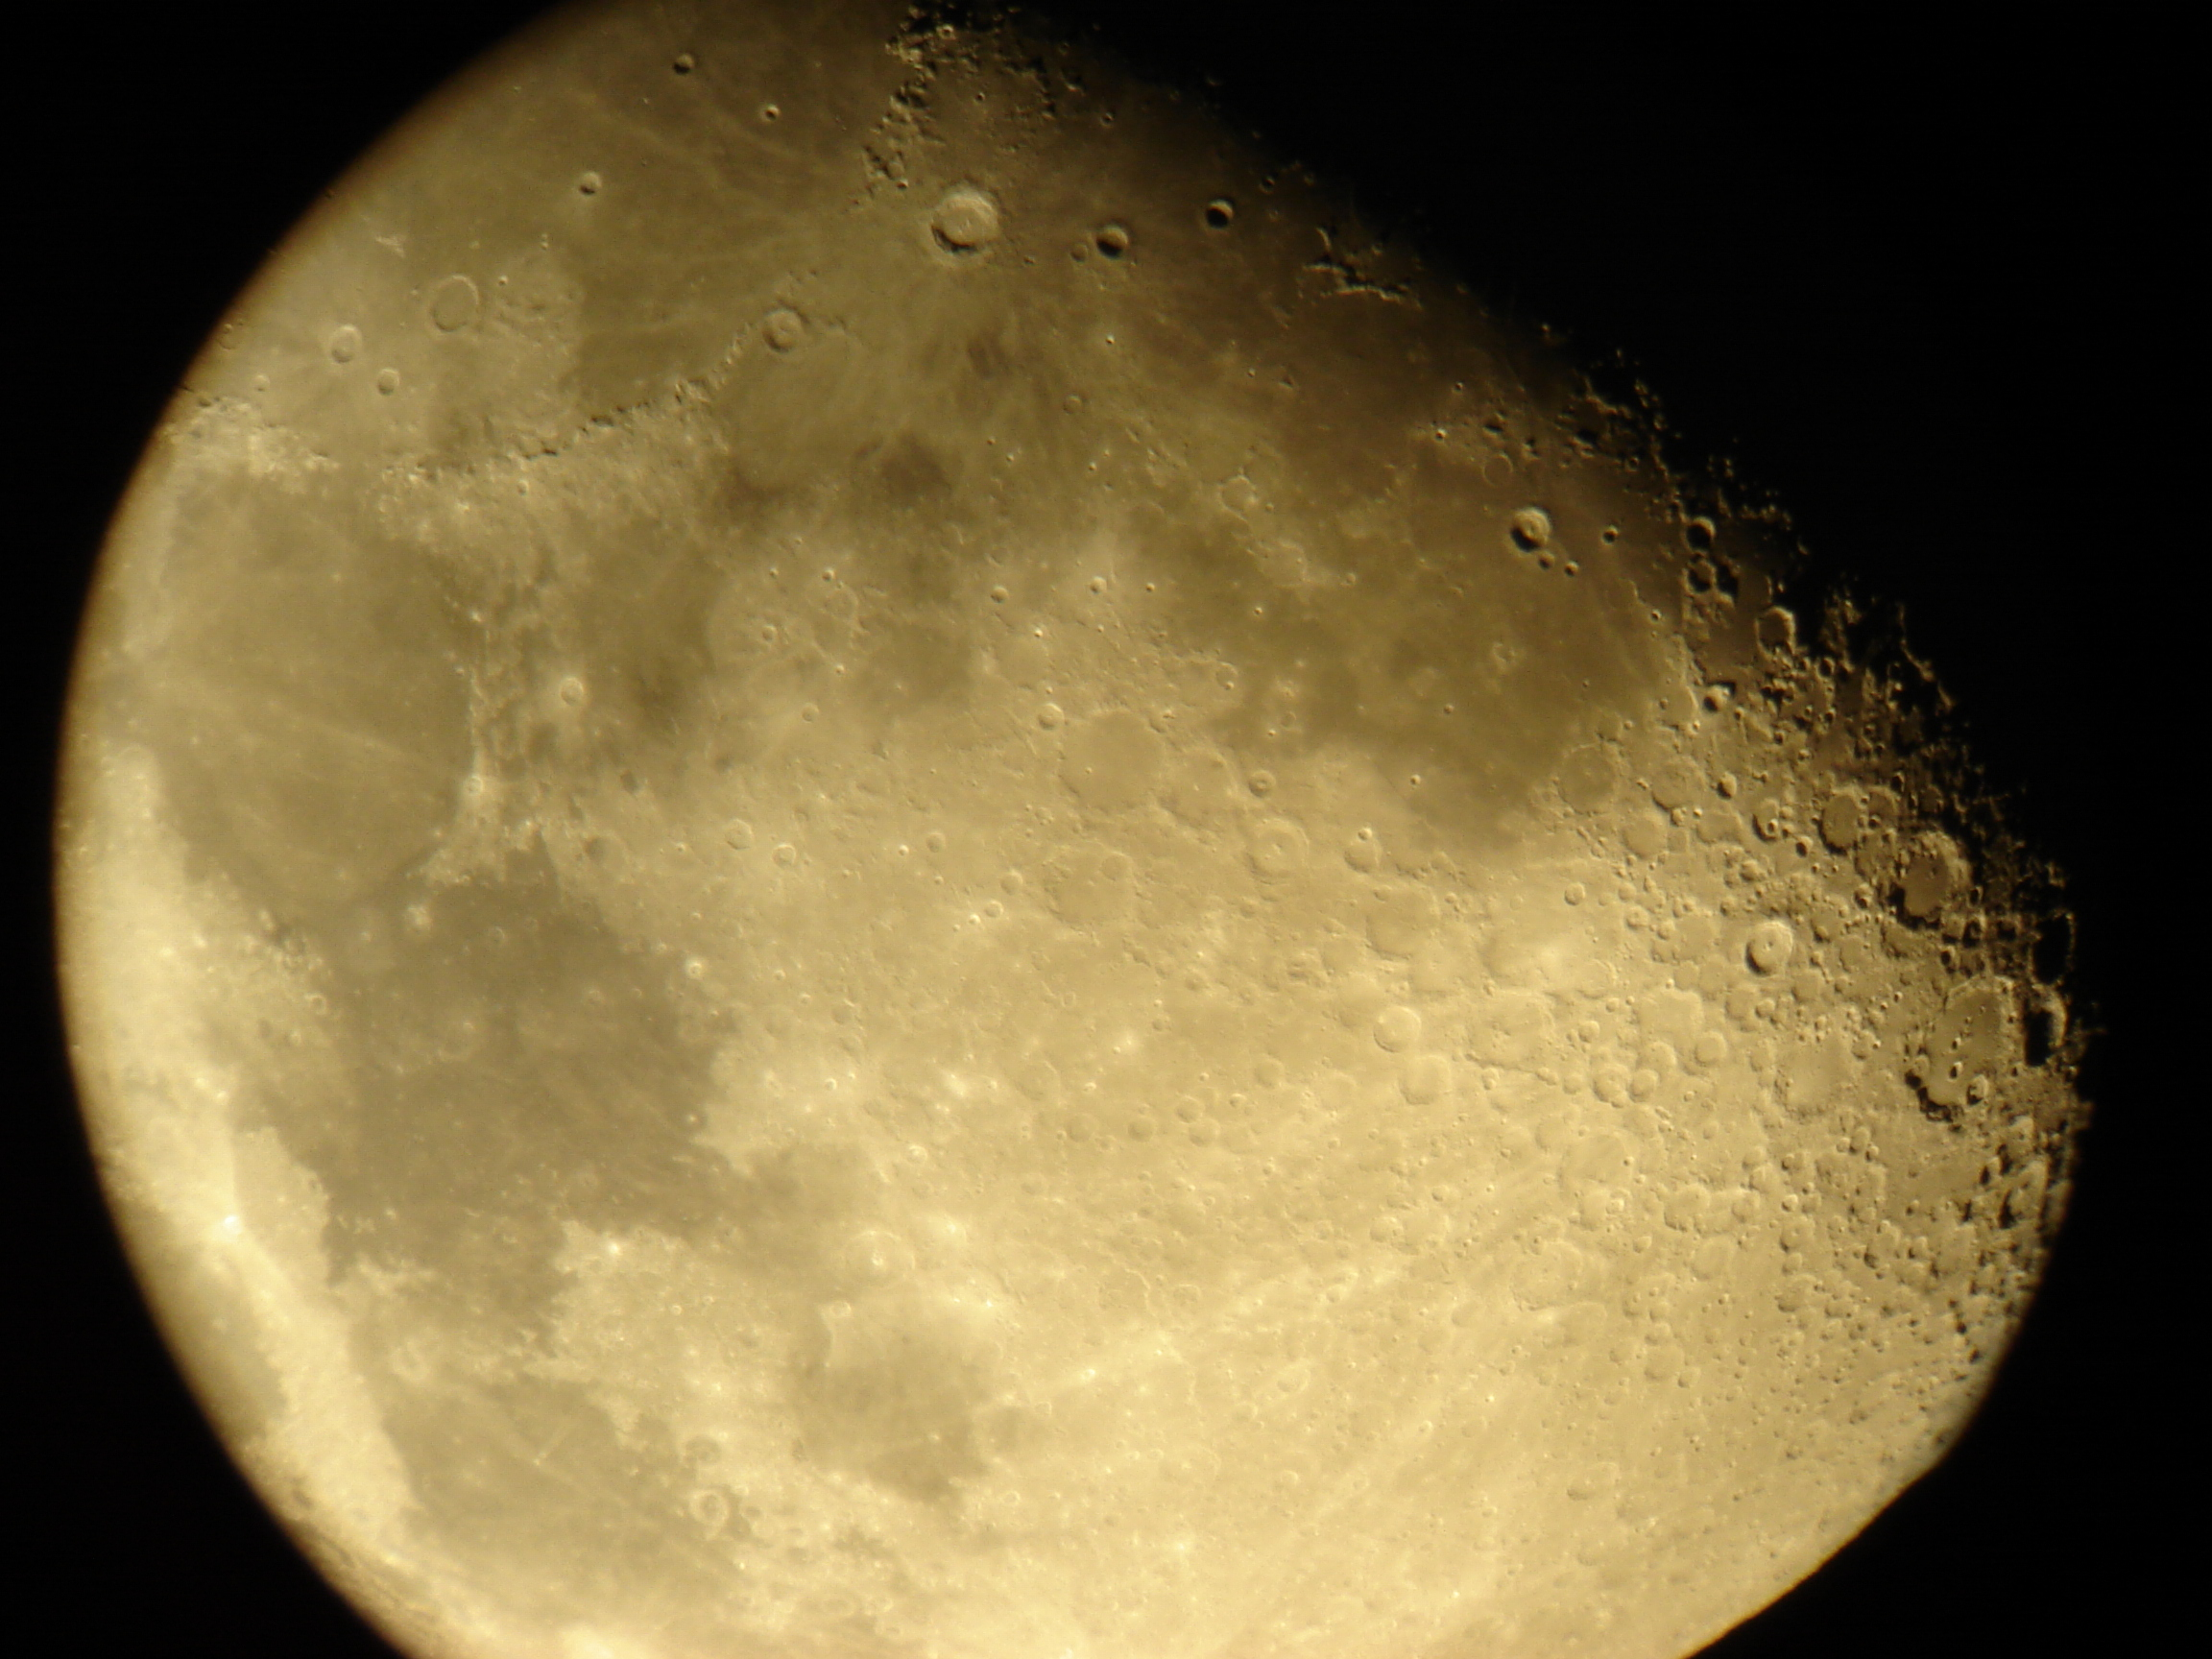crater: (1871, 945, 2020, 1145), (374, 234, 529, 355), (711, 251, 836, 401), (894, 171, 1042, 293), (533, 134, 651, 263), (1702, 896, 1815, 1019), (1059, 173, 1158, 303), (1792, 751, 1885, 878), (728, 66, 819, 173), (641, 5, 735, 105), (1235, 802, 1325, 904), (1338, 976, 1451, 1058), (528, 647, 627, 737), (1359, 1049, 1468, 1131), (1522, 845, 1604, 955), (1193, 464, 1282, 561), (1487, 493, 1580, 586), (1177, 173, 1256, 268), (1028, 362, 1136, 430), (293, 291, 371, 378), (1374, 739, 1458, 812), (808, 535, 883, 613), (1008, 674, 1083, 751), (1075, 826, 1150, 901), (698, 798, 766, 870), (1418, 678, 1486, 742), (906, 816, 977, 873), (972, 568, 1028, 633), (1683, 1023, 1740, 1079)
